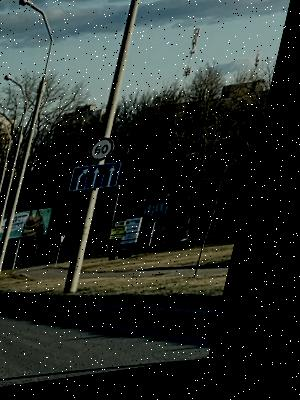Speed Limit -60-: (92, 136, 125, 168)
